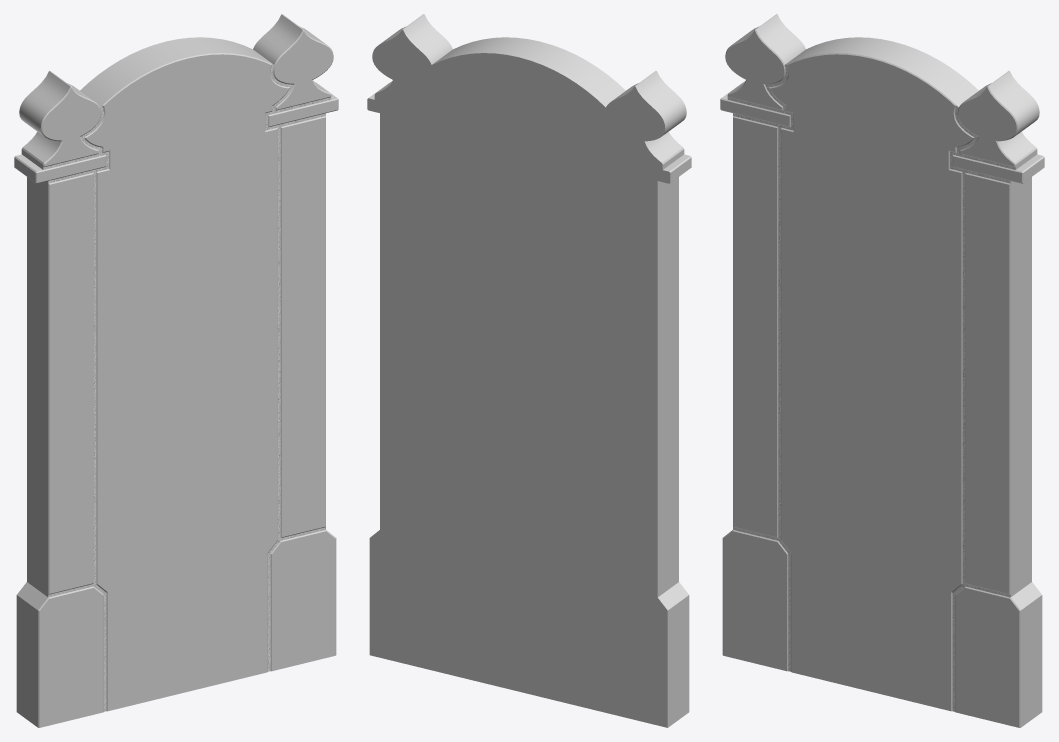
The model's file is cn3e0467ebd1_tkf.glb.
3 renders of one model, left to right at view 1: azimuth 30°, elevation 25°; view 2: azimuth 150°, elevation 25°; view 3: azimuth 330°, elevation 25°, orthographic.
Parts seen in each view (by area): view 1: Pam-v-062-1, Pam-v-062-1_2_notexture; view 2: Pam-v-062-1; view 3: Pam-v-062-1, Pam-v-062-1_2_notexture.
Part boxes in pixels (bbox=[...]): Pam-v-062-1: bbox=[14, 14, 338, 727]; Pam-v-062-1_2_notexture: bbox=[43, 64, 331, 711]; Pam-v-062-1: bbox=[367, 14, 691, 727]; Pam-v-062-1: bbox=[720, 14, 1044, 727]; Pam-v-062-1_2_notexture: bbox=[727, 64, 1015, 711].
Bounding box in the file's own units: 0.4 × 0.8 × 0.05.
1 material, 1 textured.
